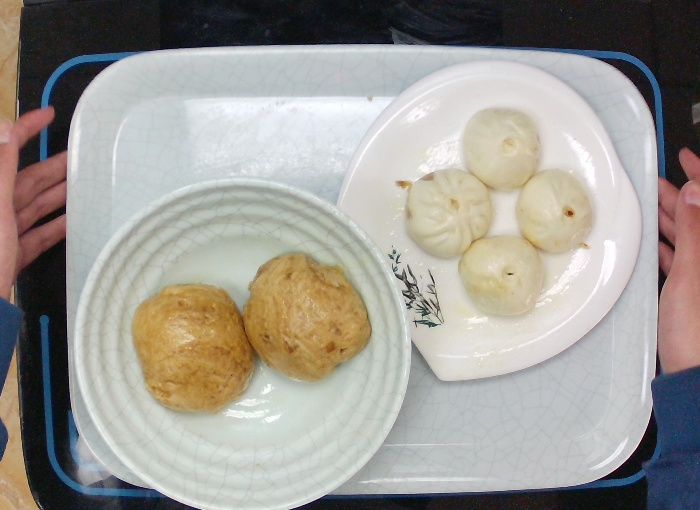JYsf-Da_Tang_Wan: (71, 174, 414, 510)
JYsf-Mian_Pan: (331, 56, 646, 383)
